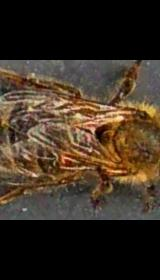varroa_mite: (53, 146, 79, 174)
